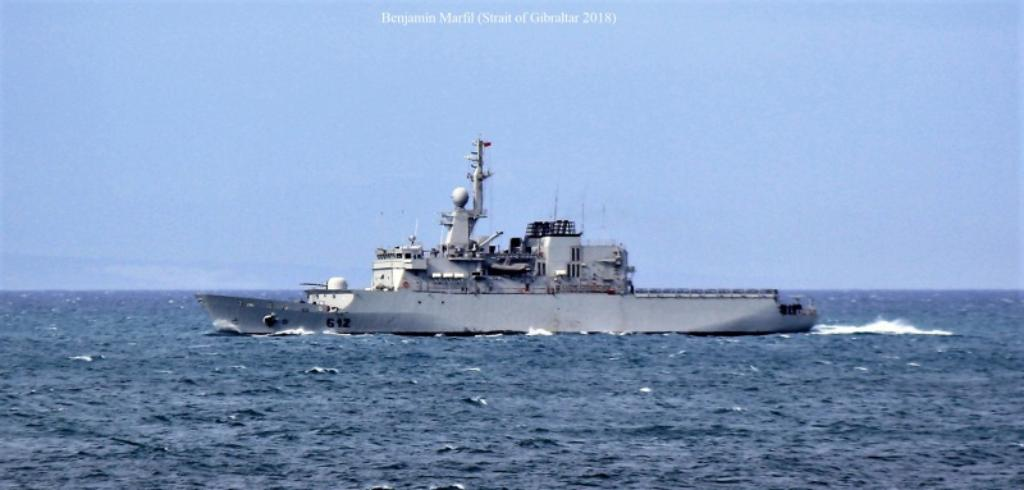Warship: (192, 132, 820, 336)
